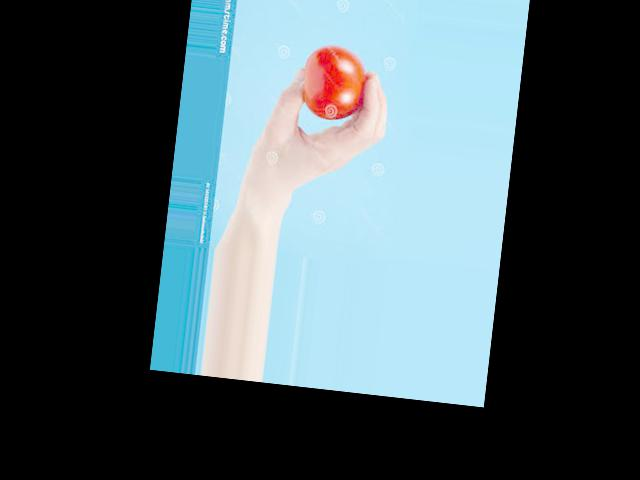tomato: (299, 43, 370, 122)
